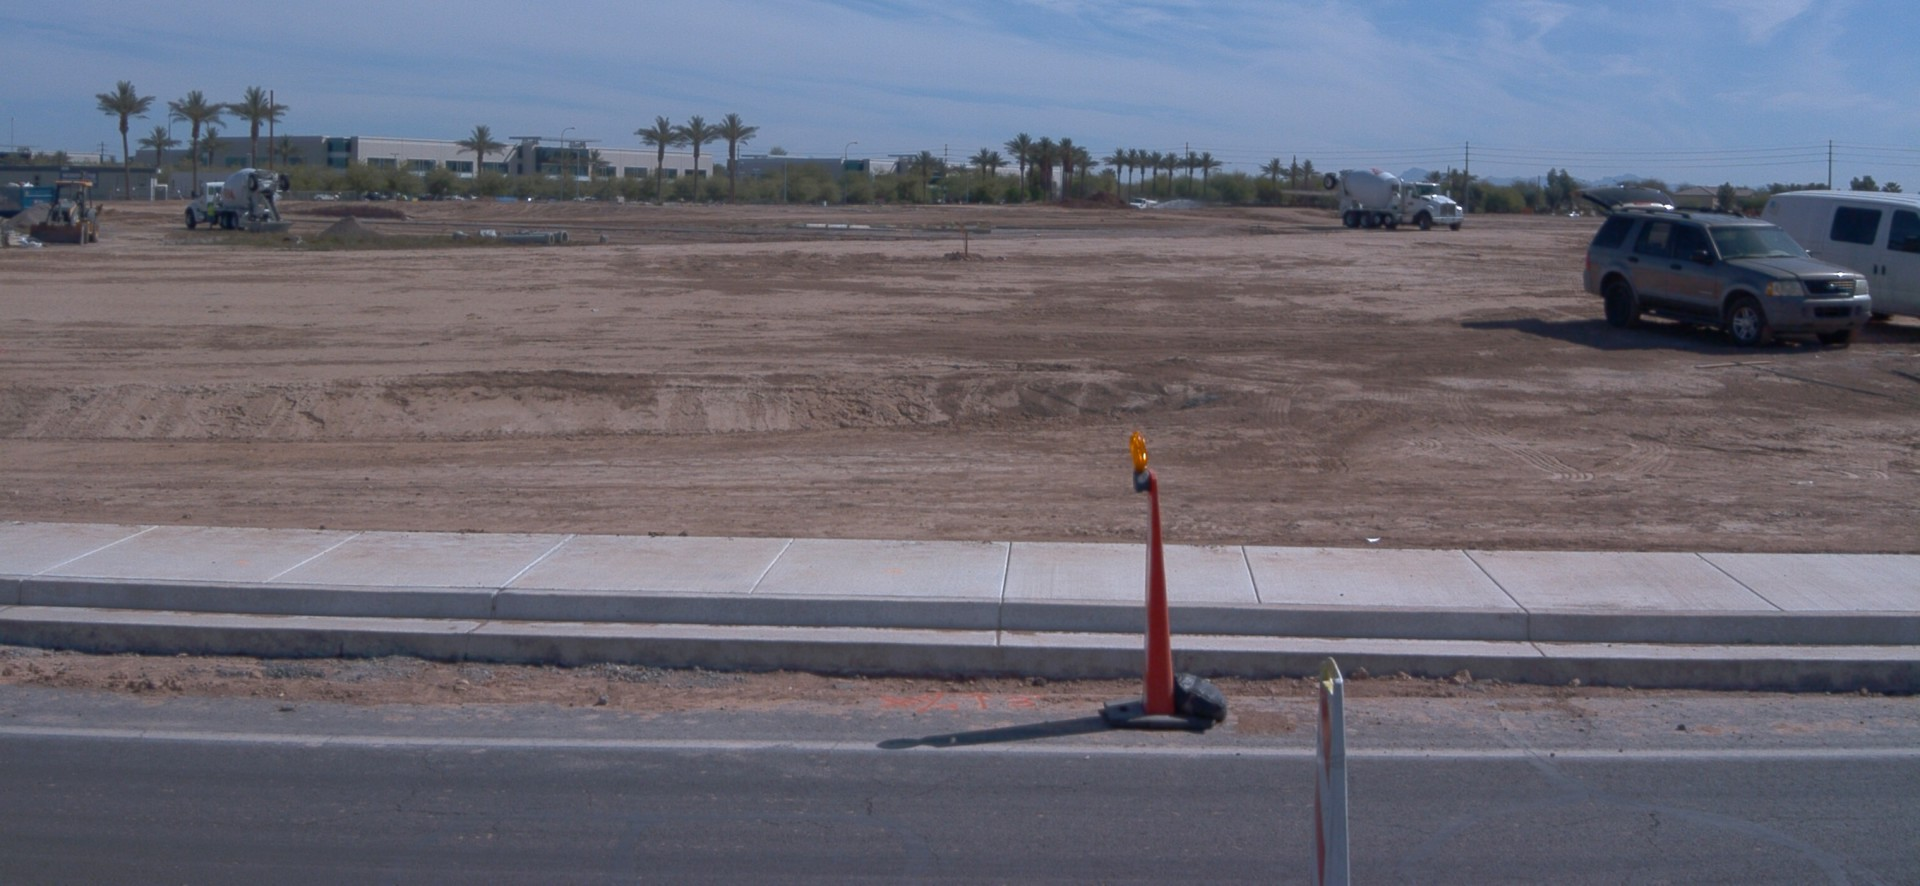TYPE_PEDESTRIAN: (207, 199, 219, 231)
TYPE_VEHICLE: (1568, 182, 1876, 352), (1745, 184, 1920, 323), (1318, 160, 1467, 234), (182, 164, 293, 230), (29, 178, 106, 244), (1127, 196, 1157, 210)
